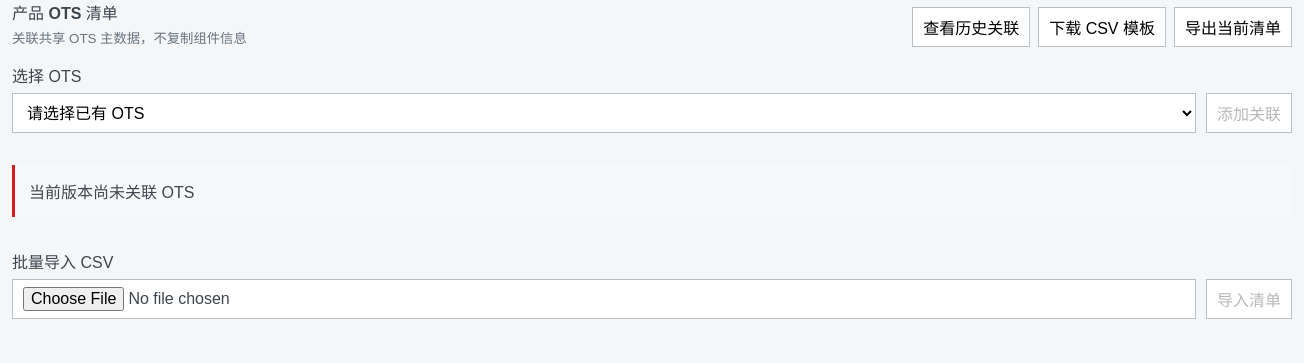
it: ProductOtsManager › adds and removes an OTS relation without deleting master data
Select "OpenSSL · 3.0" in the dropdown labelled "选择 OTS": (604, 113) [12, 93, 1196, 133]
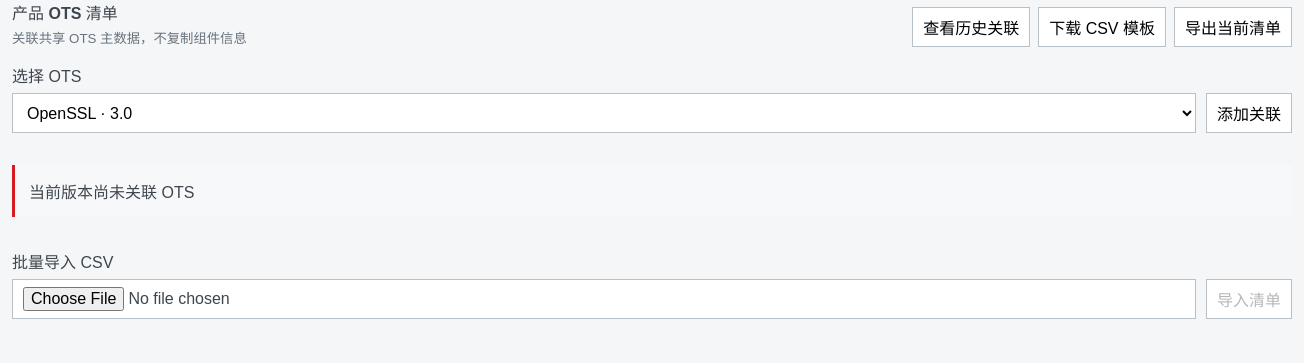
Click the button "添加关联": (1249, 113) [1206, 93, 1292, 133]
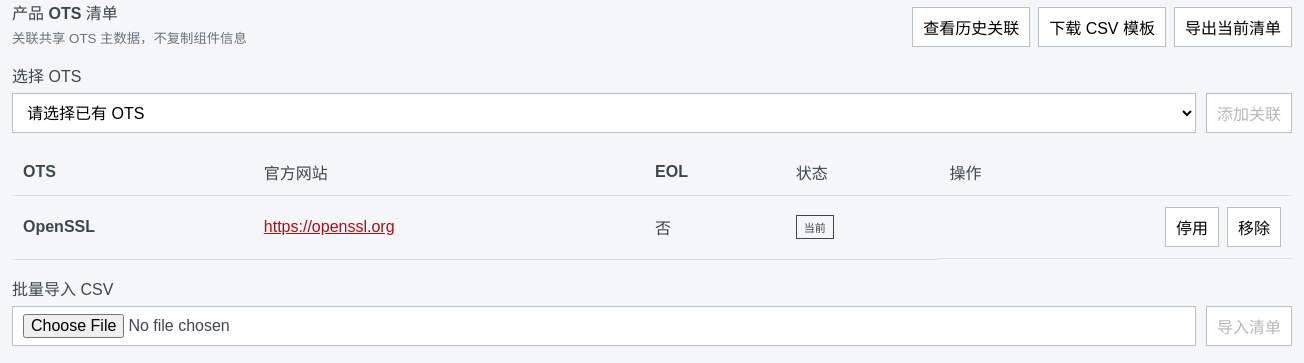
expect the text "OpenSSL" is shown: met, box [23, 218, 95, 235]
Click the button with aria-label "移除OpenSSL": (1254, 227) [1227, 207, 1281, 247]
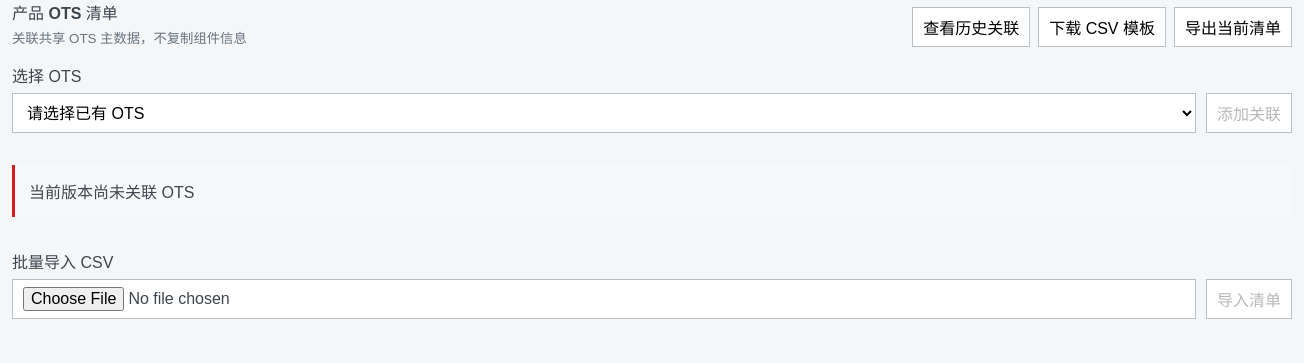
expect the text "当前版本尚未关联 OTS" is shown: met, box [12, 165, 1292, 217]
